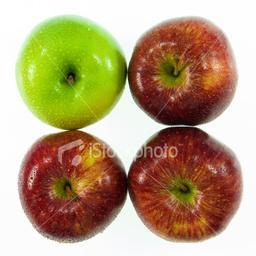apple: (14, 15, 128, 129), (126, 131, 243, 240), (17, 132, 126, 244), (129, 17, 237, 127)
